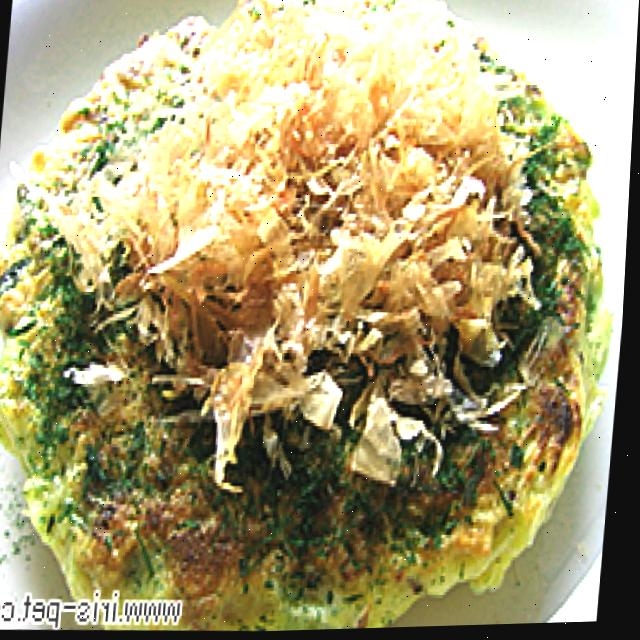蛋糕甜品: (0, 0, 632, 590)
